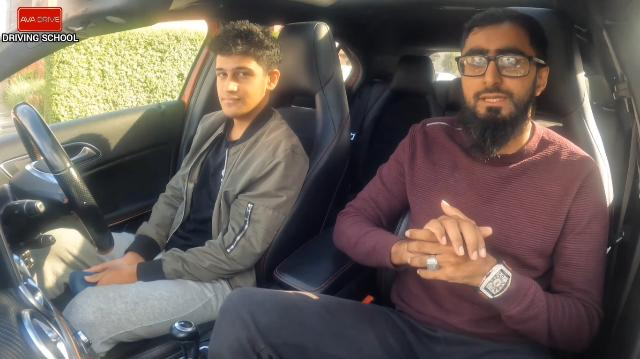no seatbelt: (346, 93, 600, 330), (138, 84, 304, 286)
